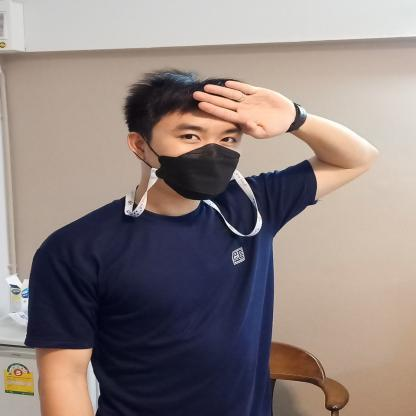Sick: (175, 69, 392, 211)
